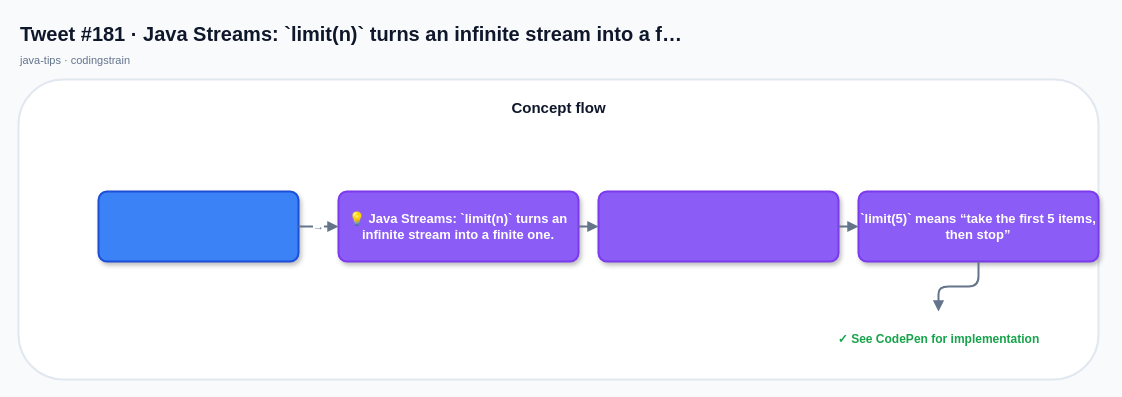
This 1122x397 diagram has some shape labels left out. The centre of each missing label's shape, as x and y in pixels:
"Problem / context" belongs at point (199, 227).
"Useful with `Stream.iterate()` / `generate()` (they can be infinite)" belongs at point (719, 227).
